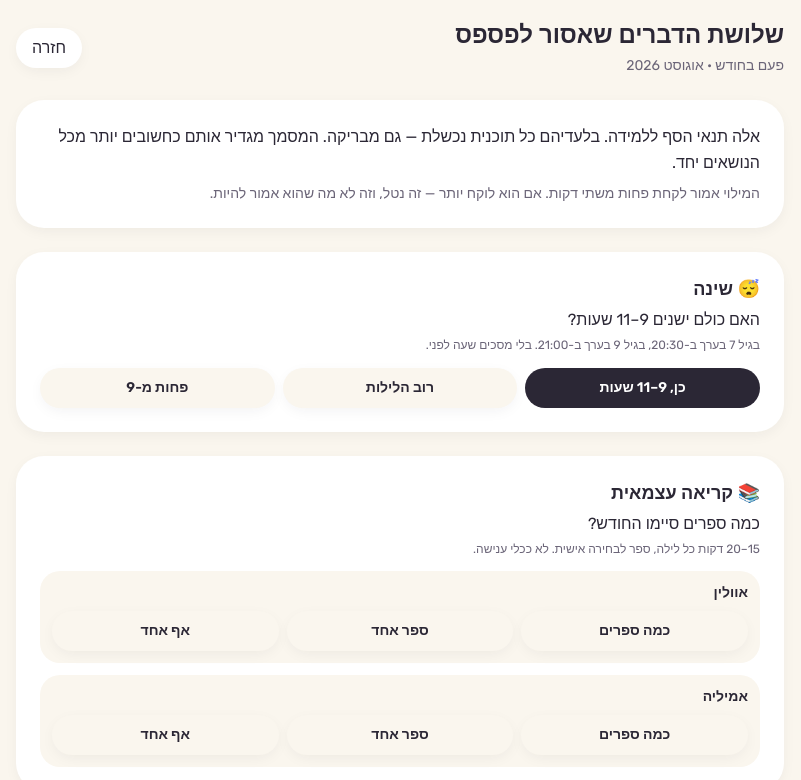
Test case: <ParentFoundationPage> — מילוי ושמירה › שינה נמוכה מציפה את הדגל ש§2 קורא לו 'מקור הכל'
Expected: the heading "😴 שינה" is shown, [693, 276, 760, 303]
Click the button "פחות מ-9": click(157, 388) [40, 368, 275, 408]
(page scrolled)
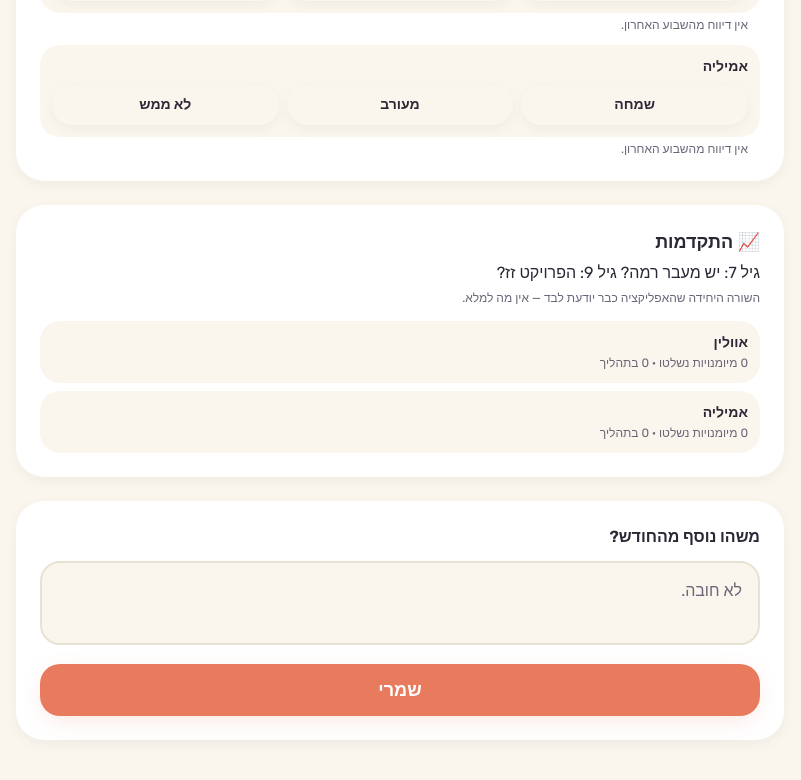
Click the button "שמרי": click(400, 690) [40, 664, 760, 716]
(page scrolled)
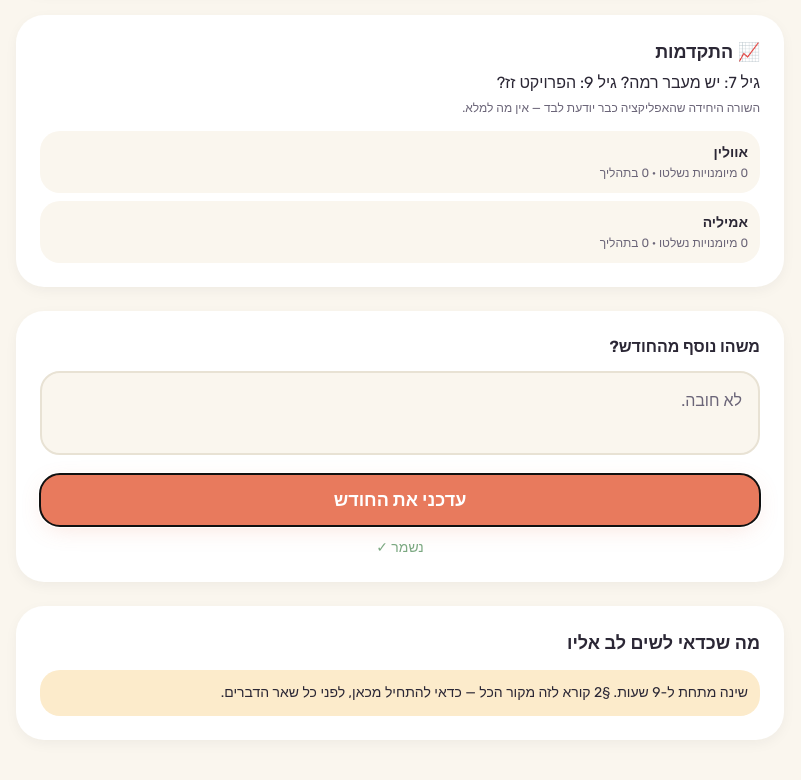
Now the list item "מקור הכל" is shown, box [221, 684, 748, 700]
